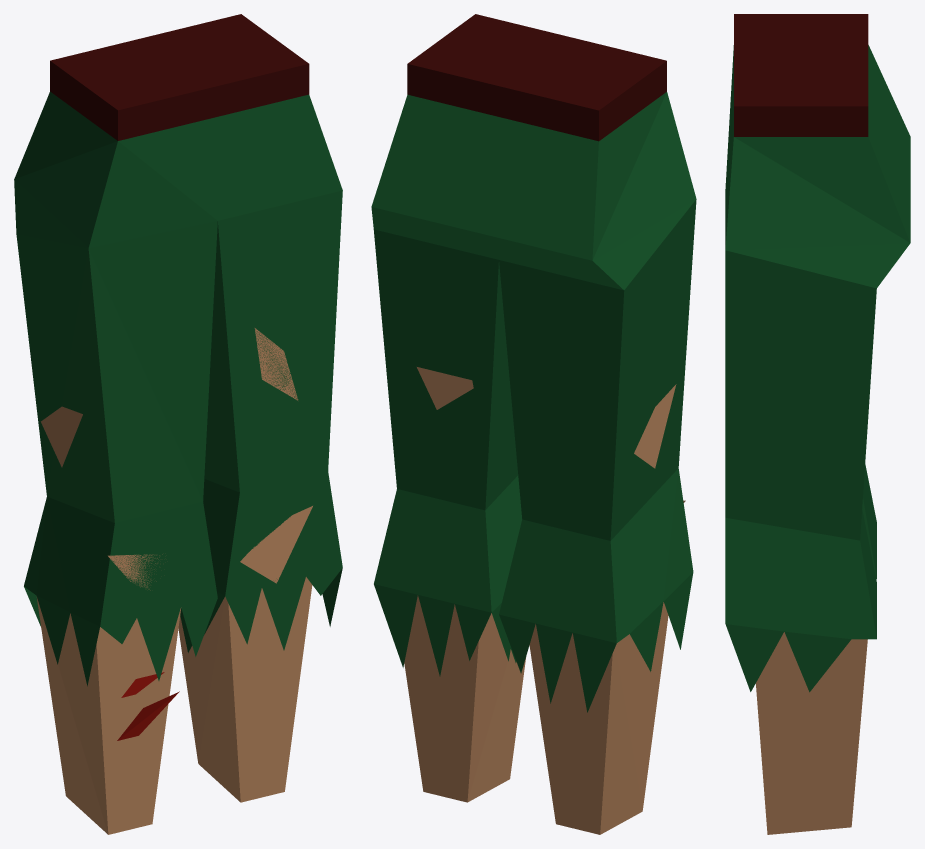
Rendered from model_275_idk.obj.
3 renders of one model, left to right at view 1: azimuth 30°, elevation 25°; view 2: azimuth 150°, elevation 25°; view 3: azimuth 270°, elevation 25°, orthographic.
Visible parts, largest first — view 1: 275; view 2: 275; view 3: 275.
Part boxes in pixels (bbox=[...]): 275: bbox=[14, 14, 342, 834]; 275: bbox=[371, 14, 696, 834]; 275: bbox=[725, 14, 910, 834].
Size of the model in its own units: 34 by 96 by 22.
